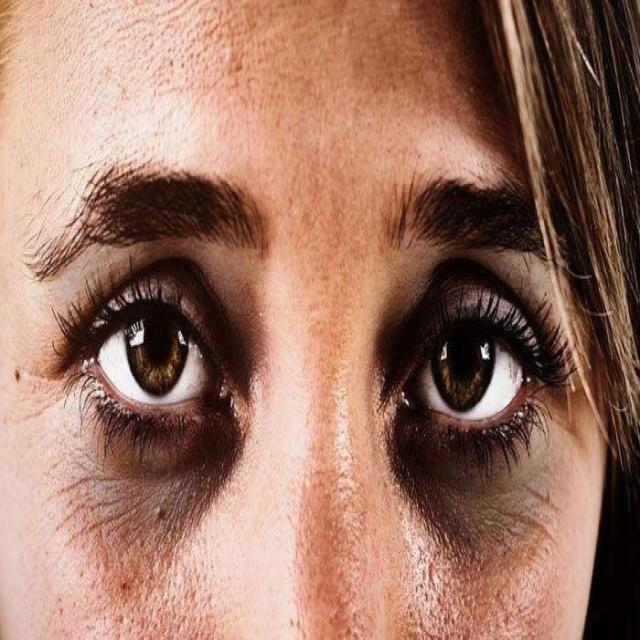Eyebags: (374, 250, 564, 572), (57, 351, 249, 594)
